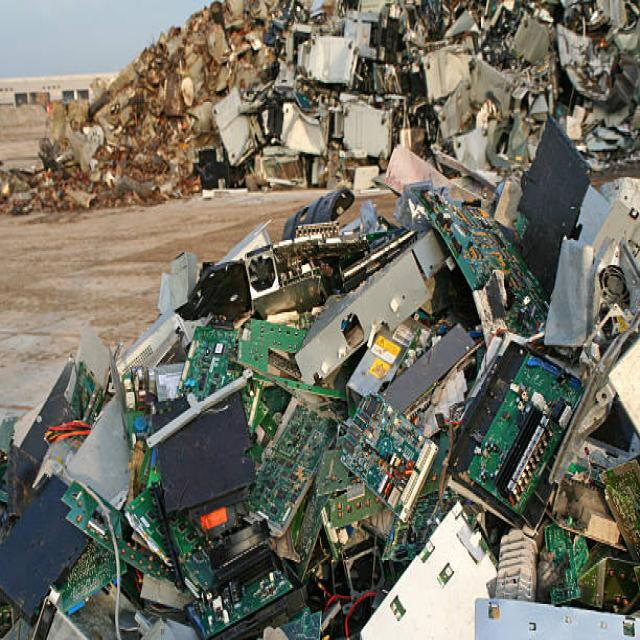metal: (435, 192, 584, 332), (447, 339, 575, 497), (272, 414, 423, 537), (69, 494, 167, 593)
